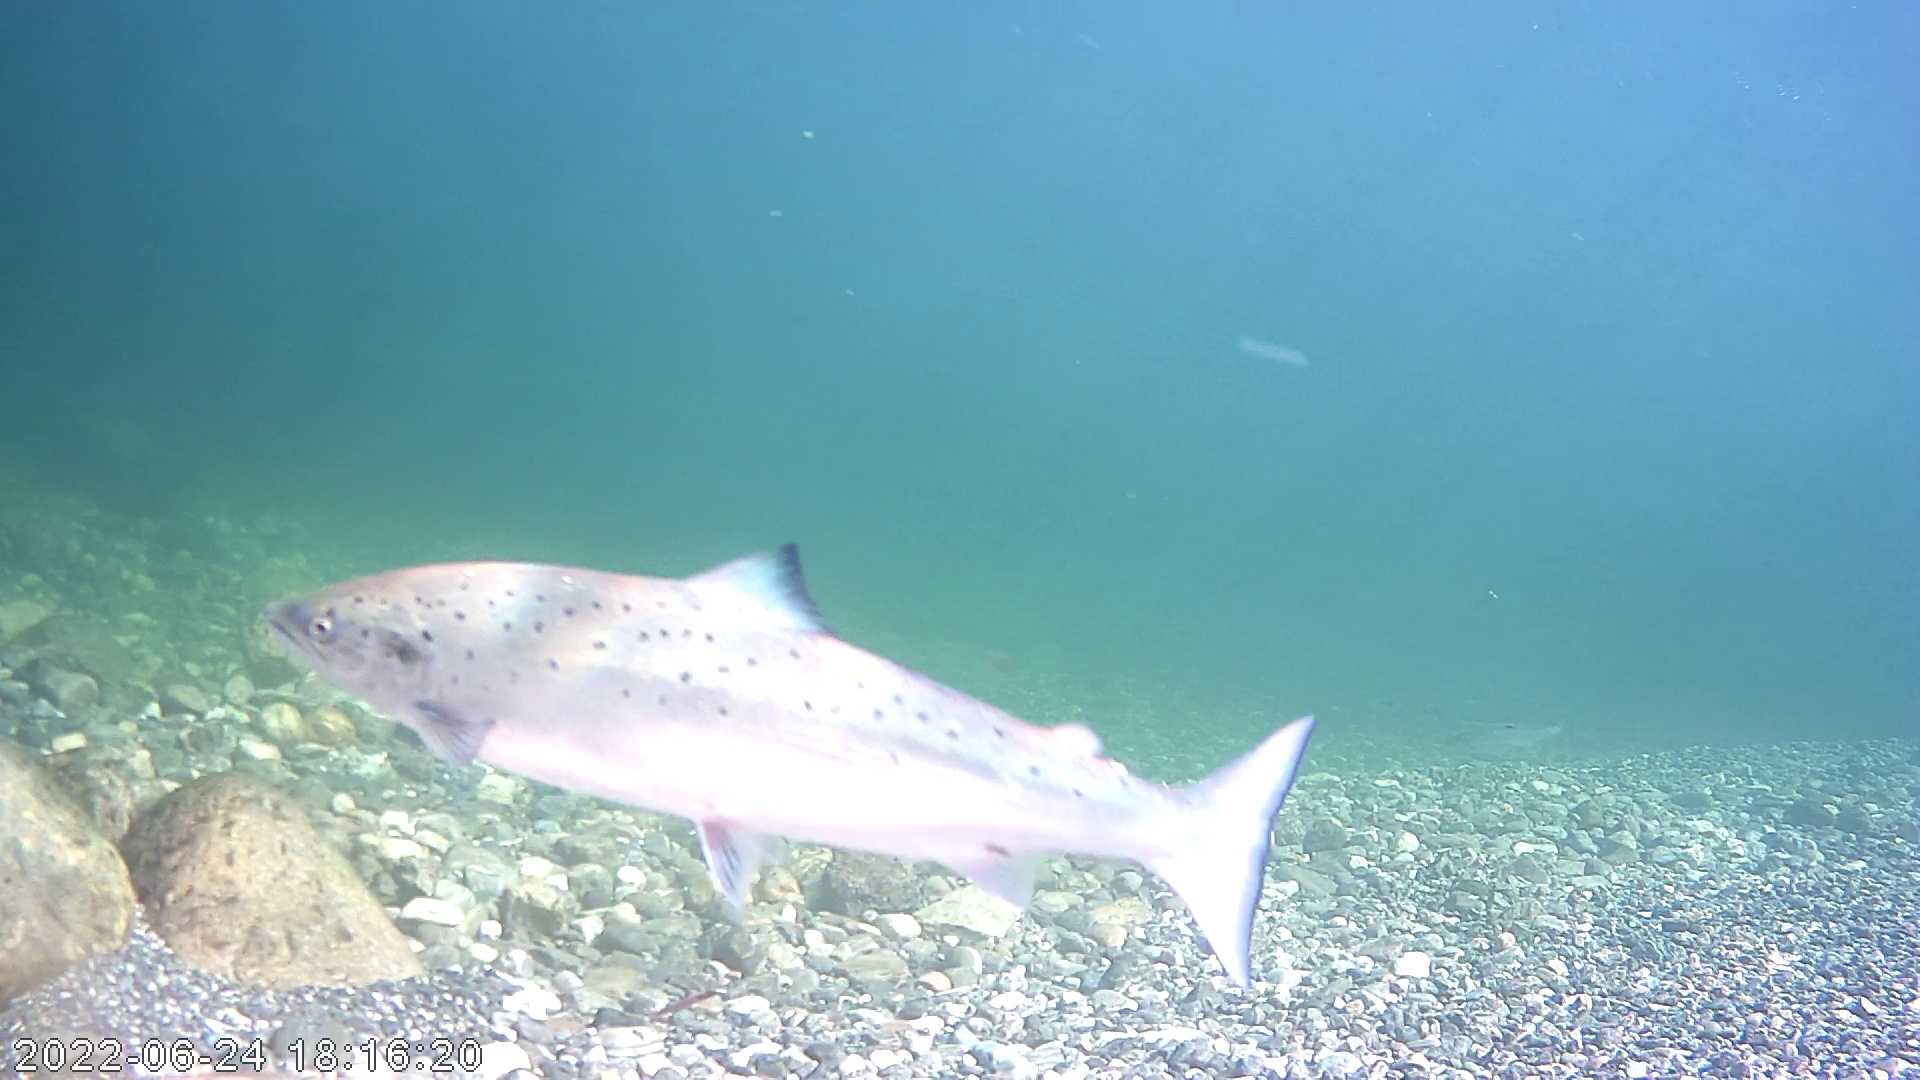salmon: (255, 538, 1323, 993)
